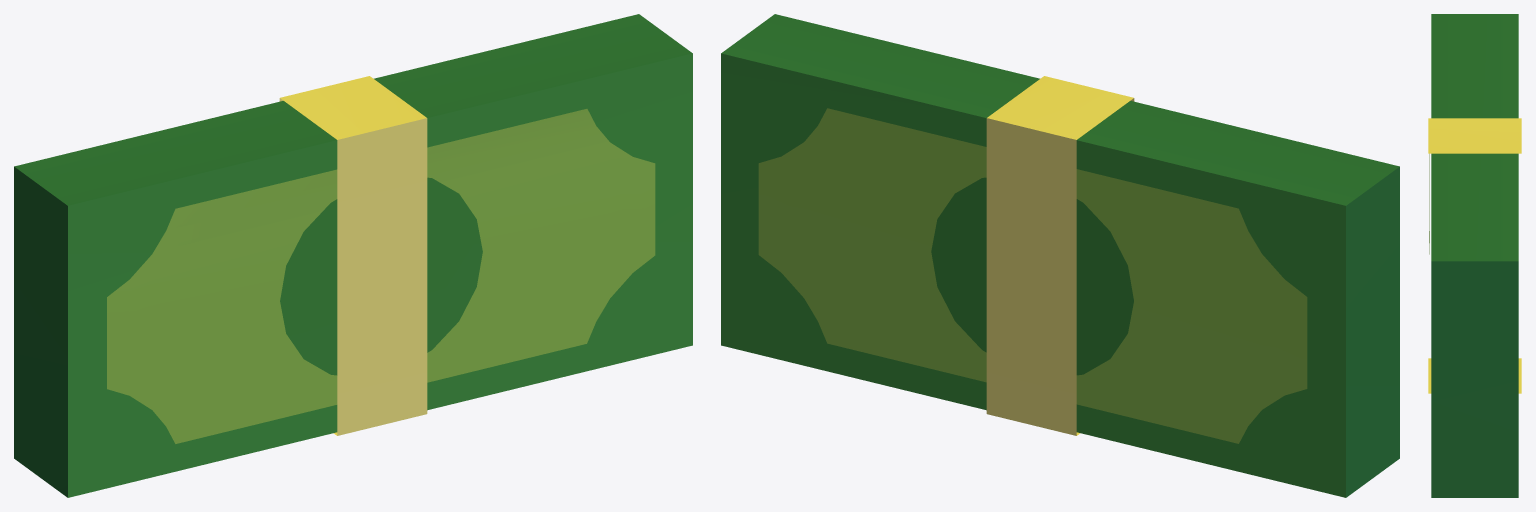
The model's file is Money.FBX.
3 renders of one model, left to right at view 1: azimuth 30°, elevation 25°; view 2: azimuth 150°, elevation 25°; view 3: azimuth 270°, elevation 25°, orthographic. The views are drawn at different scales.
Visible parts, largest first — view 1: Money; view 2: Money; view 3: Money.
Boxes of the visible parts, x1,y1,x2,y2 form: Money: (14,14,692,497); Money: (721,14,1399,497); Money: (1428,14,1521,497).
Bounding box in the file's own units: 0.8038 × 0.3638 × 0.1282.
Materials: 1 (1 with a texture image).
